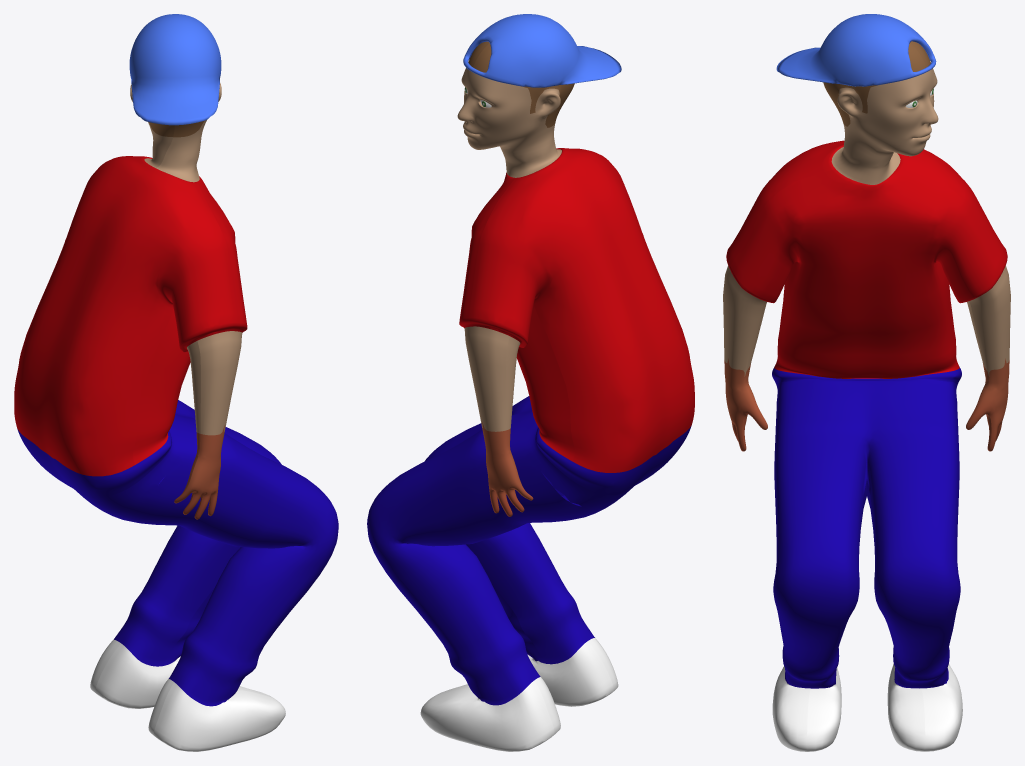
The model's file is PersonajePoseAgachado1.fbx.
The picture shows the model from 3 angles, left to right: view 1: azimuth 30°, elevation 25°; view 2: azimuth 150°, elevation 25°; view 3: azimuth 270°, elevation 25°; orthographic projection.
Visible parts, largest first — view 1: Cuerpo completo smooth.002; view 2: Cuerpo completo smooth.002; view 3: Cuerpo completo smooth.002.
Part boxes in pixels (box(x1,y1,x2,y2)): Cuerpo completo smooth.002: box(14, 14, 338, 751); Cuerpo completo smooth.002: box(367, 14, 694, 751); Cuerpo completo smooth.002: box(723, 14, 1010, 751).
Size of the model in its own units: 55.44 by 138 by 51.36.
